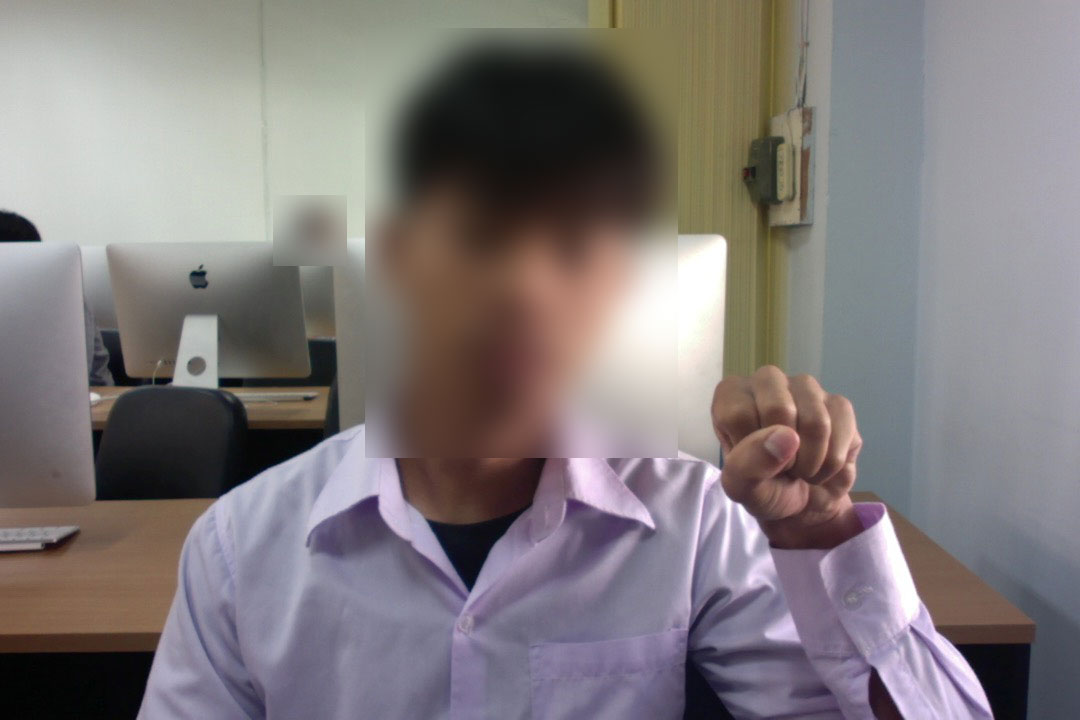sor: (707, 359, 867, 556)
